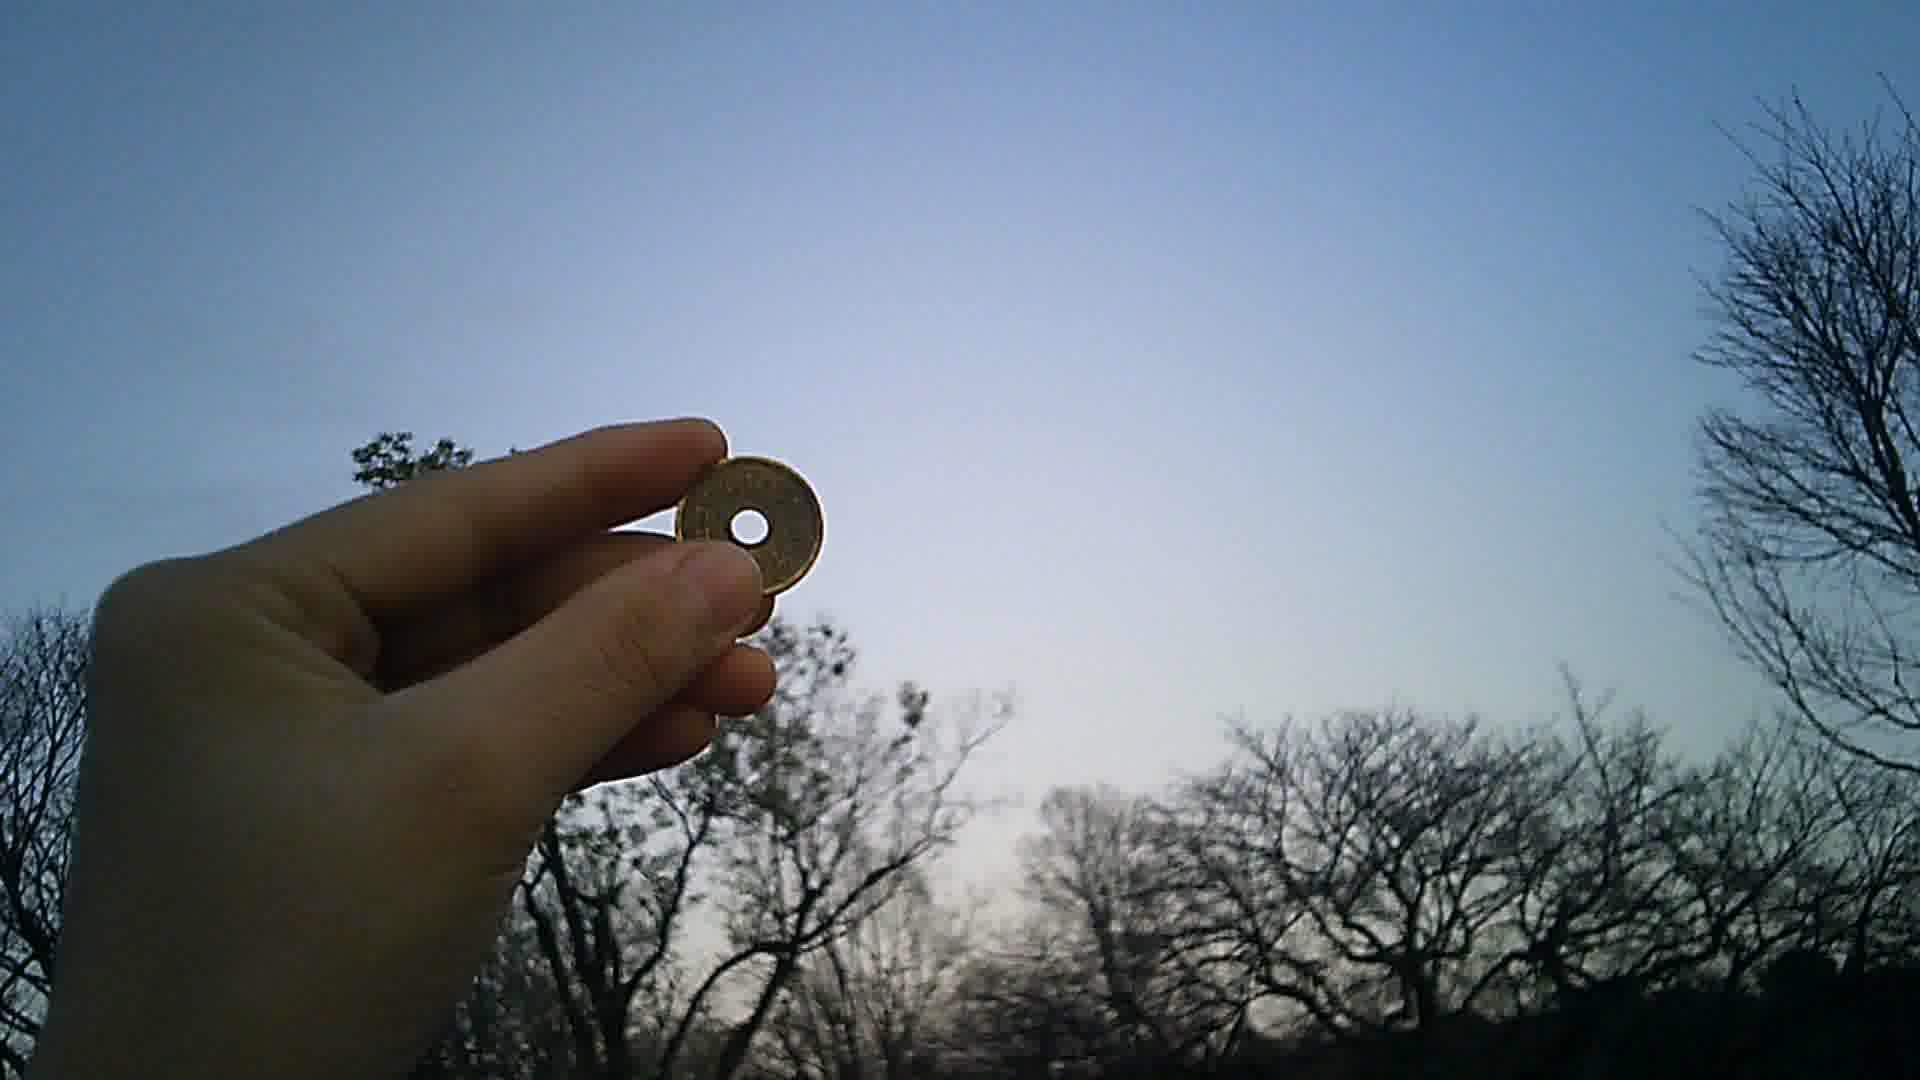5 Yen: (669, 436, 837, 593)
